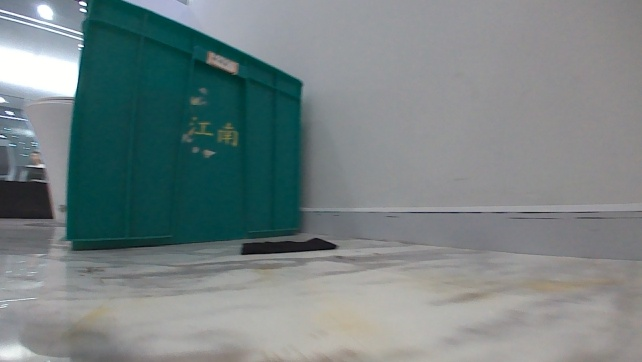socks: (239, 235, 337, 259)
toilet: (19, 95, 74, 224)
